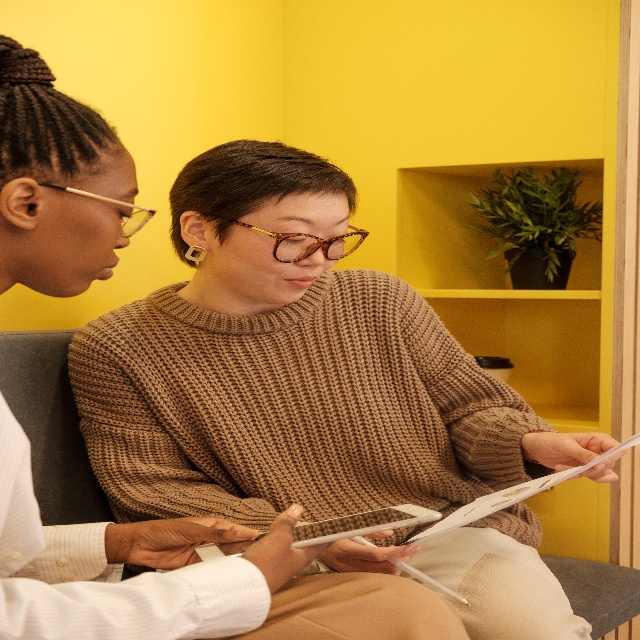Gafas: (272, 227, 370, 265), (117, 202, 159, 238)
Sin_guantes: (128, 515, 255, 562), (247, 503, 325, 576), (523, 429, 624, 481), (331, 537, 422, 578)
